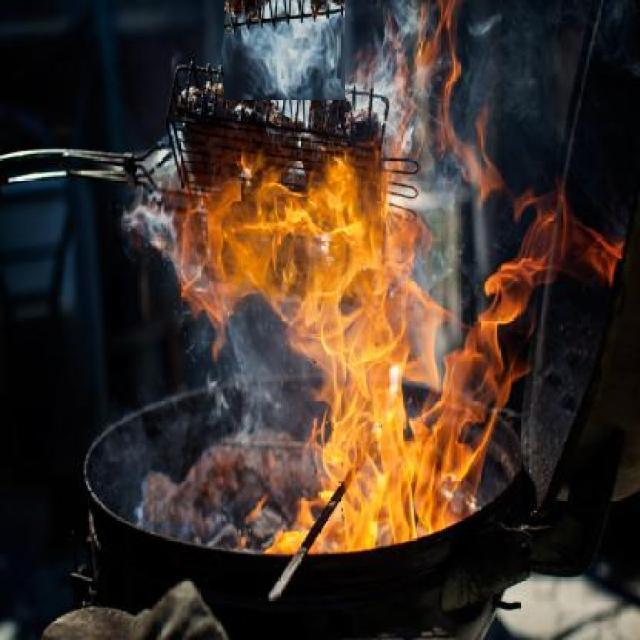Fire: (176, 158, 616, 550)
